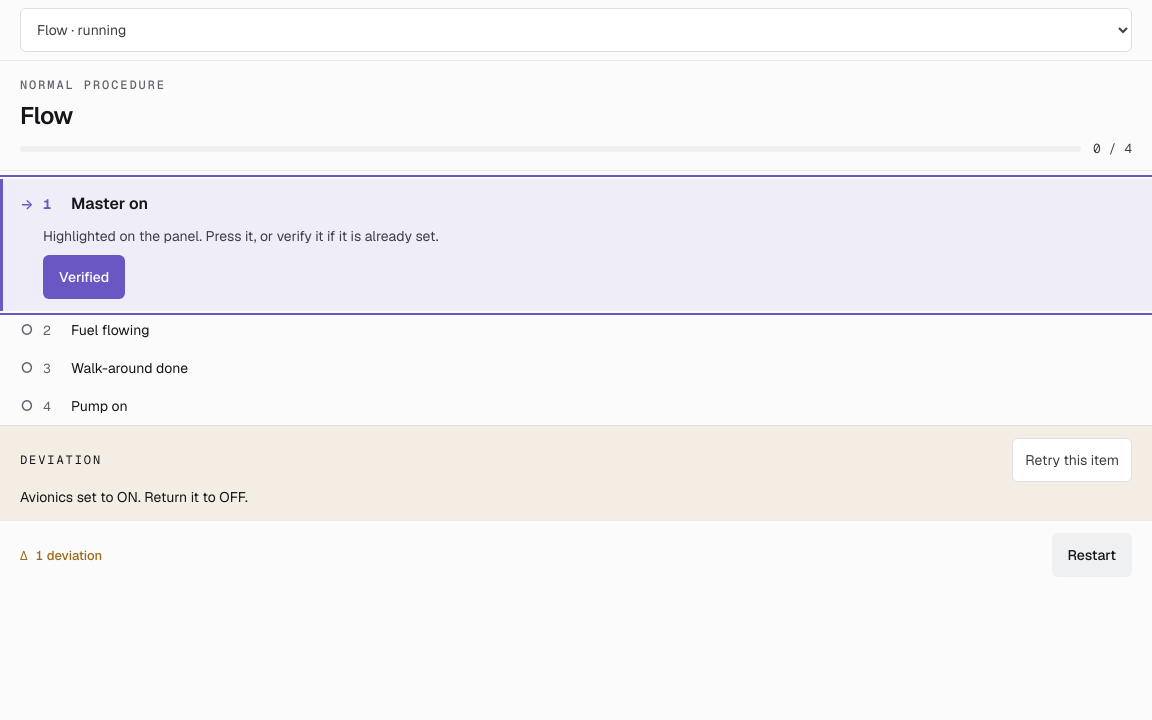
retrying an item › offers a retry with a deviation of the current item and puts the cockpit back
Click the button "Retry this item". click: (1072, 460)
box: [1012,438,1132,482]
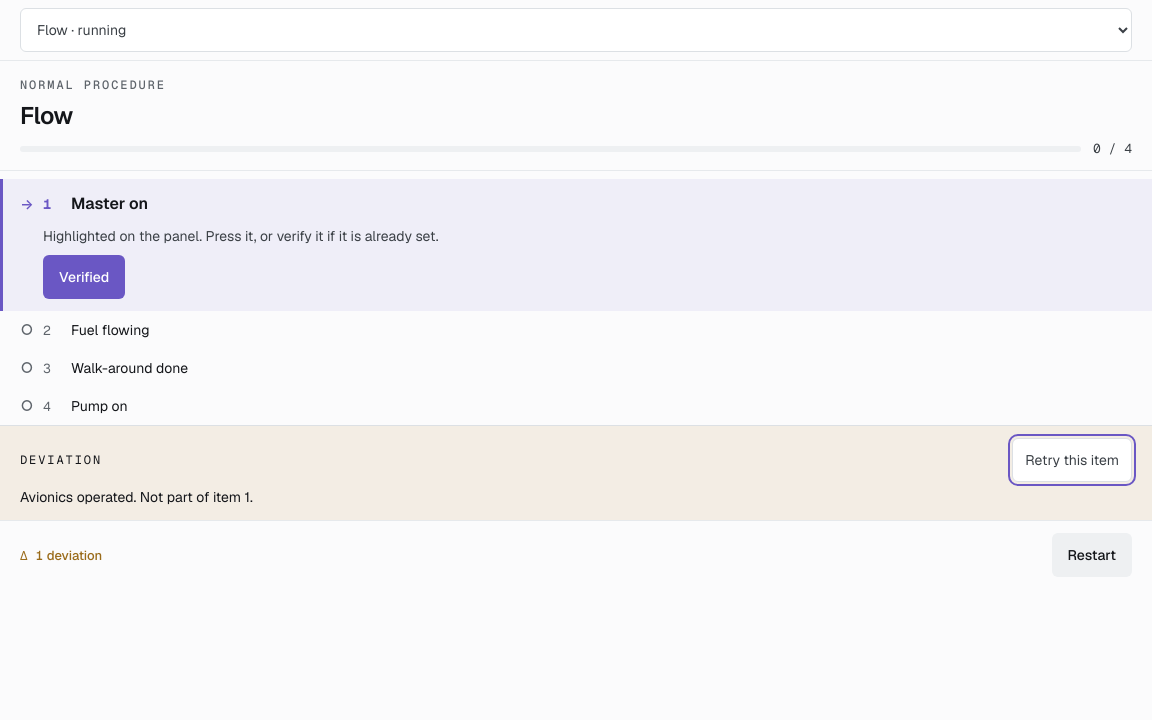
Check: the text "1 deviation" is shown, box [36,546,102,564]
Check: the text "Avionics operated. Not part of item 1." is shown, box [20,488,253,506]
